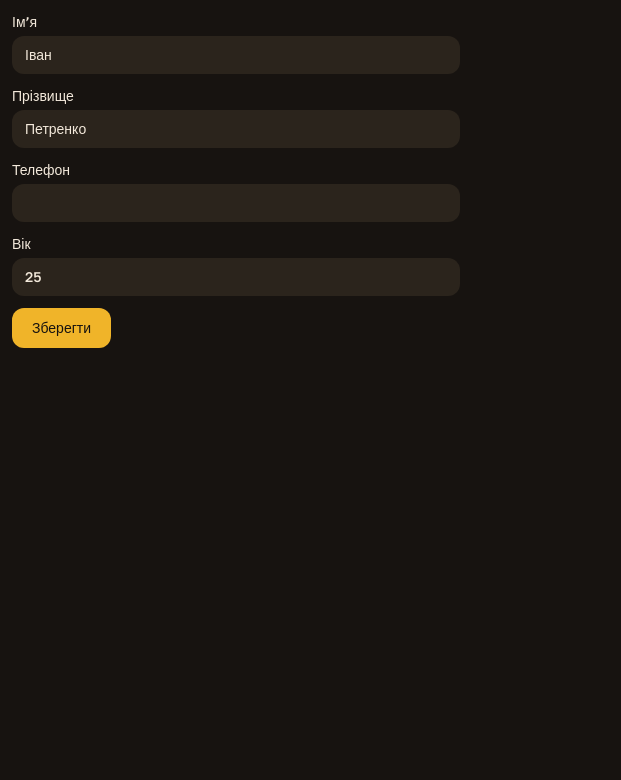
Scenario: UserProfileForm (адмінка) › сабміт лише зі зміненим полем → PATCH /admin/users/:id з diff { firstname } + toast «Профіль оновлено» + refresh
Replace the text in the field labelled "Імʼя" with "Олег" at (236, 55), box 12,36 -> 460,74
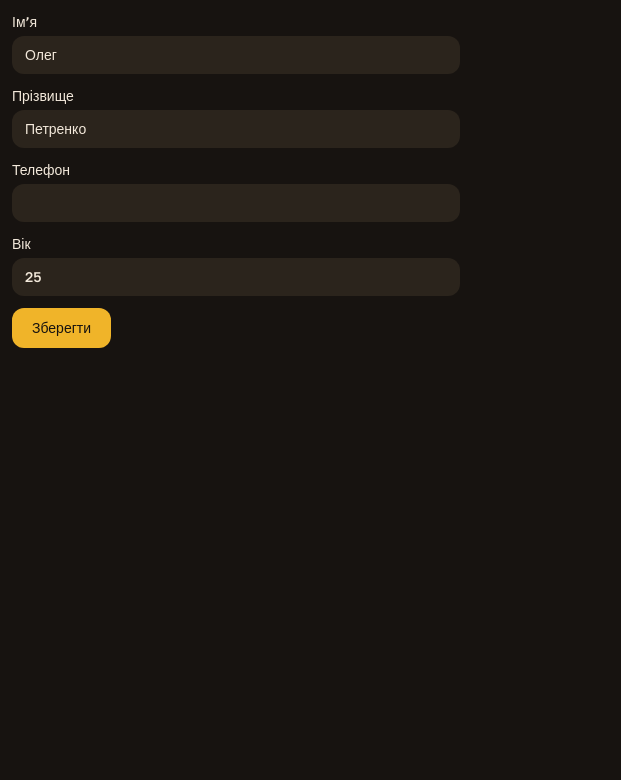
Click the button "Зберегти" at (62, 328), box 12,308 -> 111,348
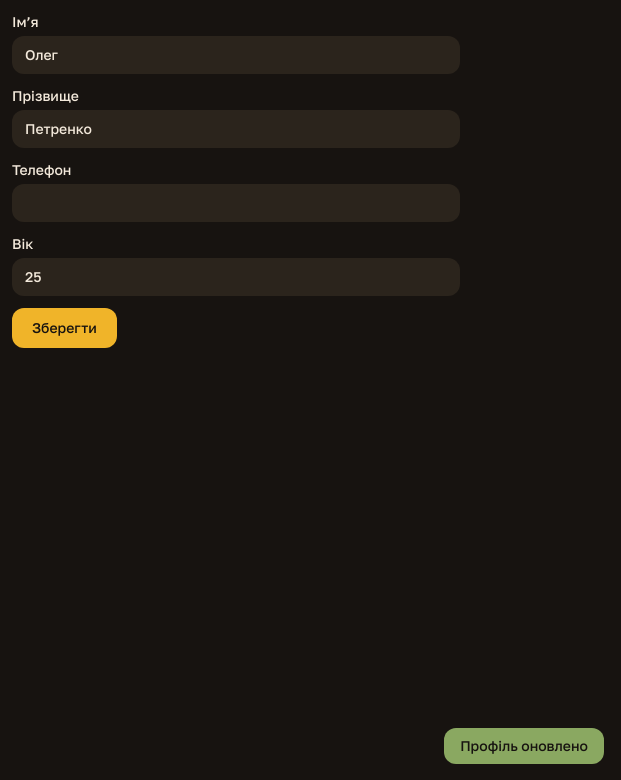
Now the message reads "Профіль оновлено", box 460,737 -> 588,754
